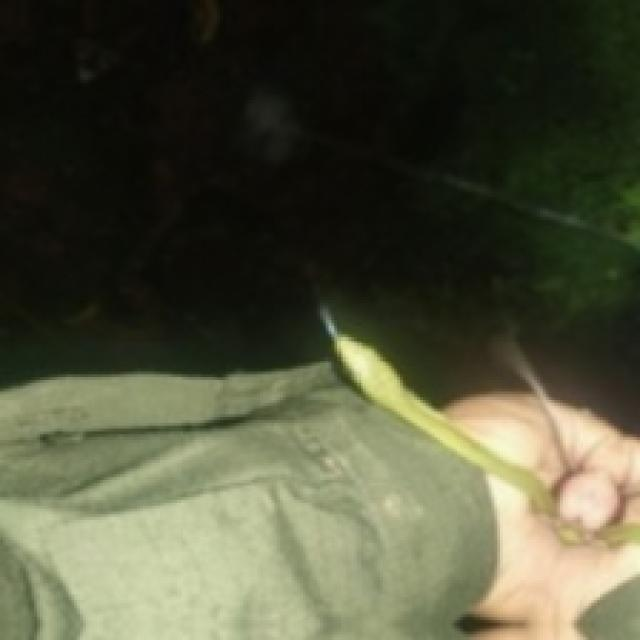red-tailed green ratsnake: (320, 309, 637, 637)
